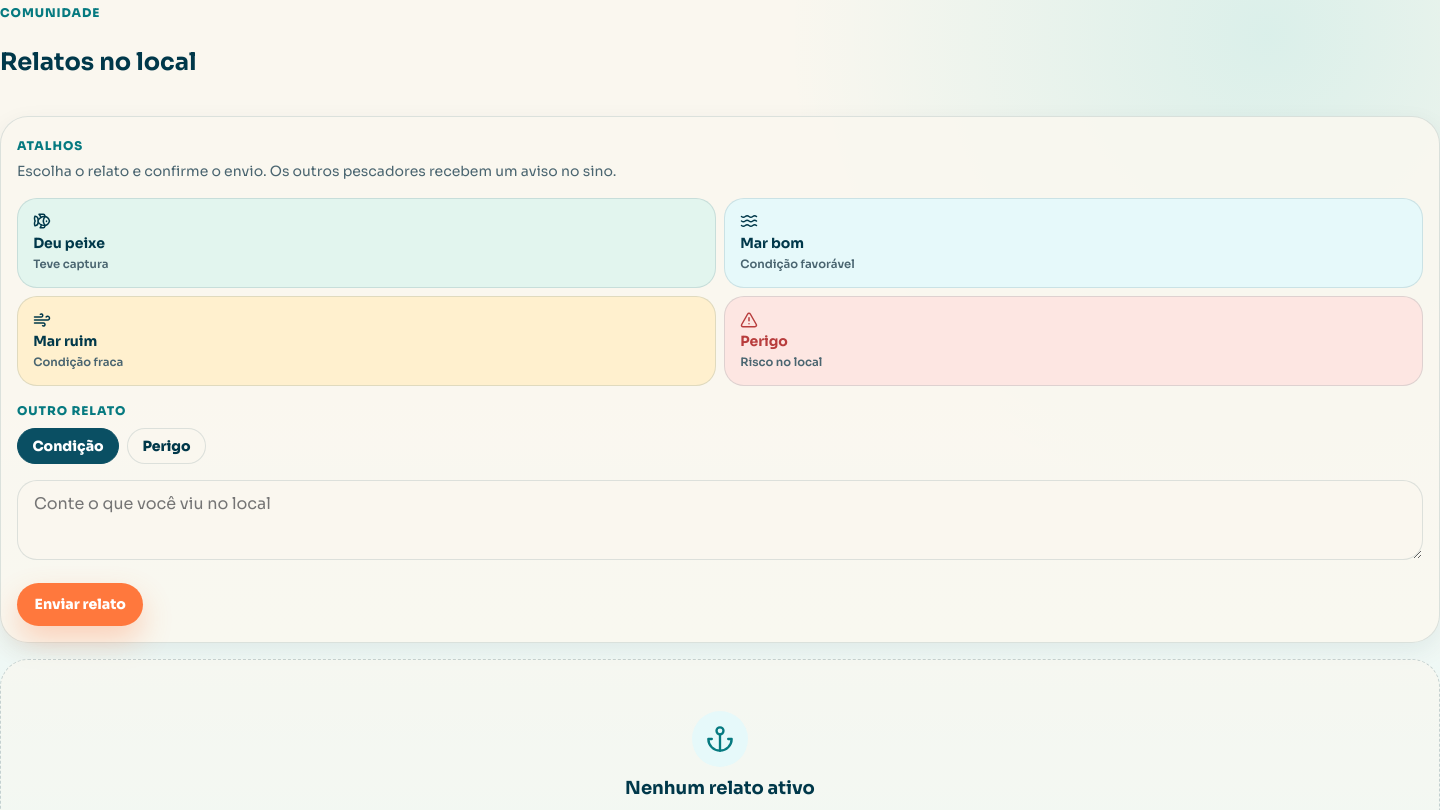
CommunityReports › envia um atalho com tipo e comentário prontos
Click the button with aria-label "Relatar Deu peixe" at x=69, y=243, box [17,198,716,288]
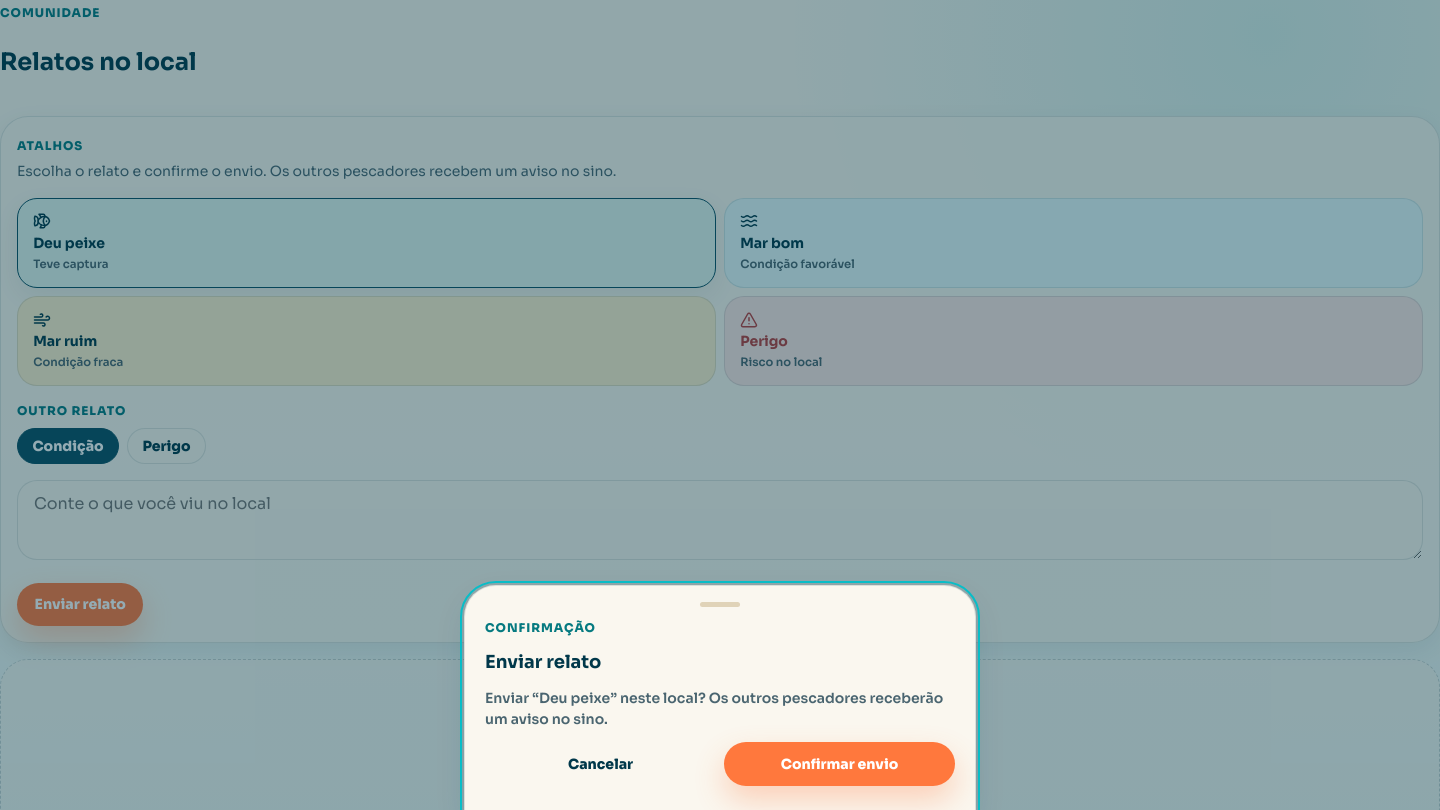
Check: the dialog "Enviar relato" is shown, box [464,585,976,809]
Click the button "Confirmar envio" at x=840, y=764, box [724,742,955,786]
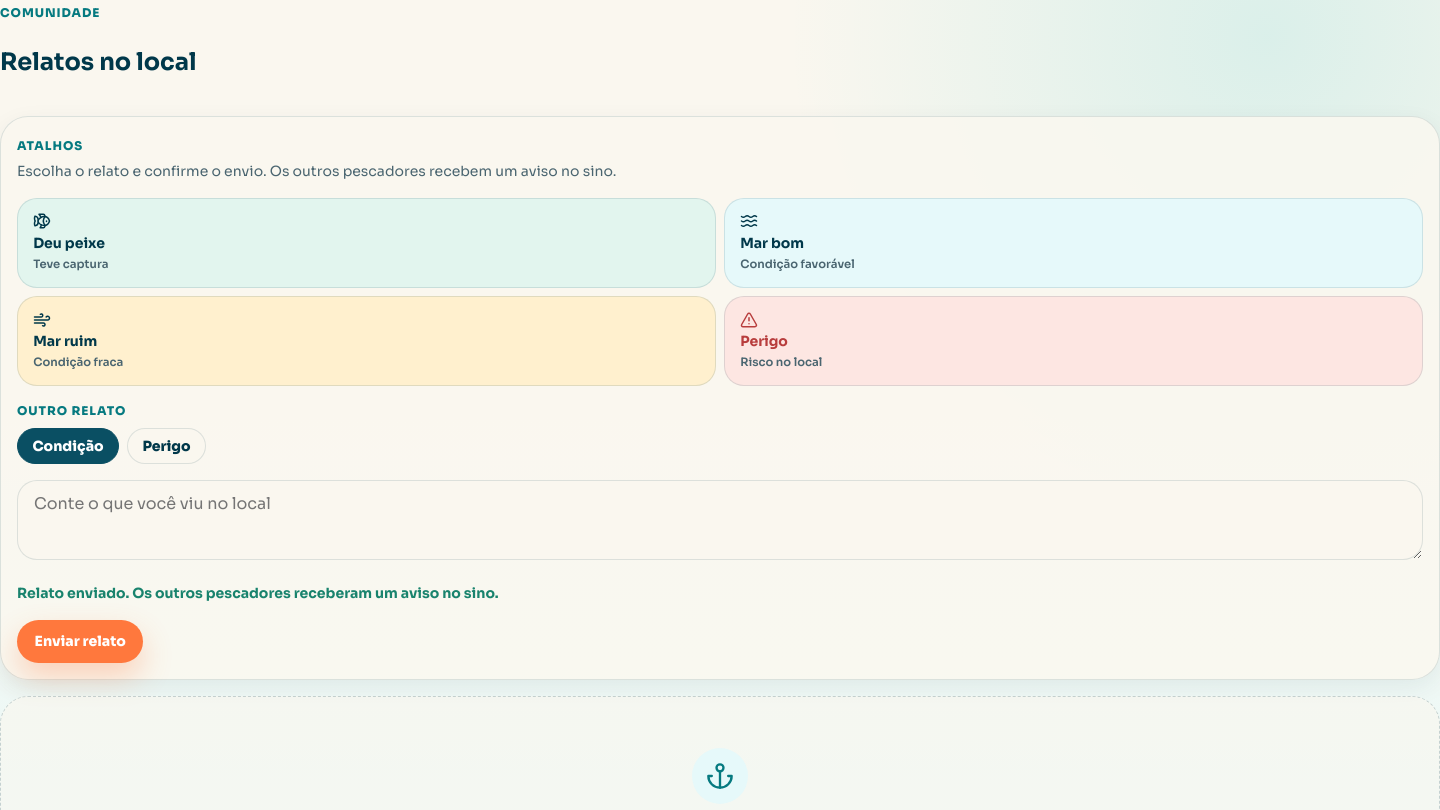
Check: the text "Relato enviado. Os outros pescadores receberam um aviso no sino." is shown, box [17,584,499,602]
